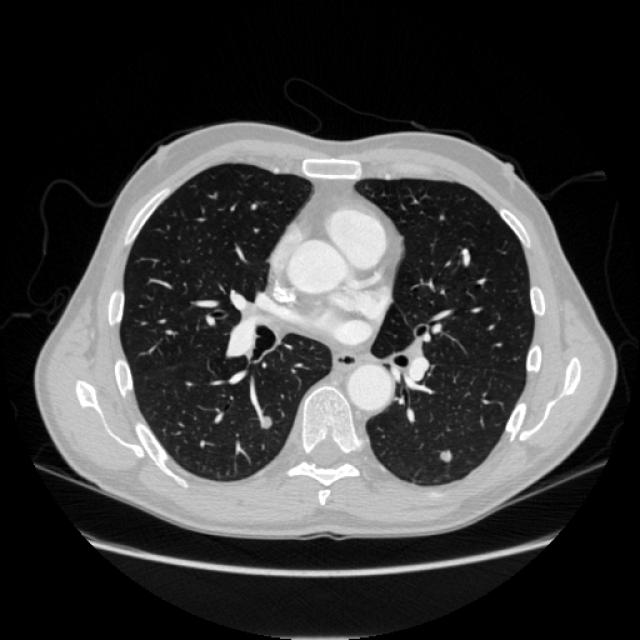nodule: (251, 407, 279, 435)
